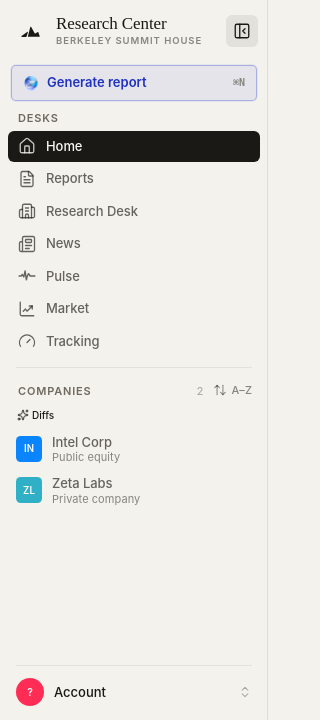
Test: Sidebar company pages › opens a company in place, like a folder, instead of navigating
Click the link with class "company-source-row" showing "IN Intel Corp Public equity" at coordinates (68, 449), box [16,434,120,464]
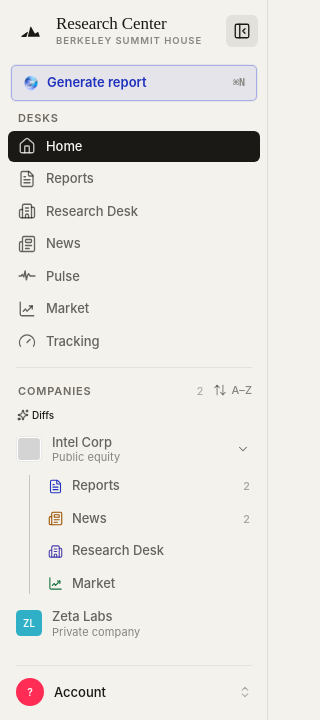
expect the link with class "company-source-row" is expanded: met, box [8,429,260,469]
